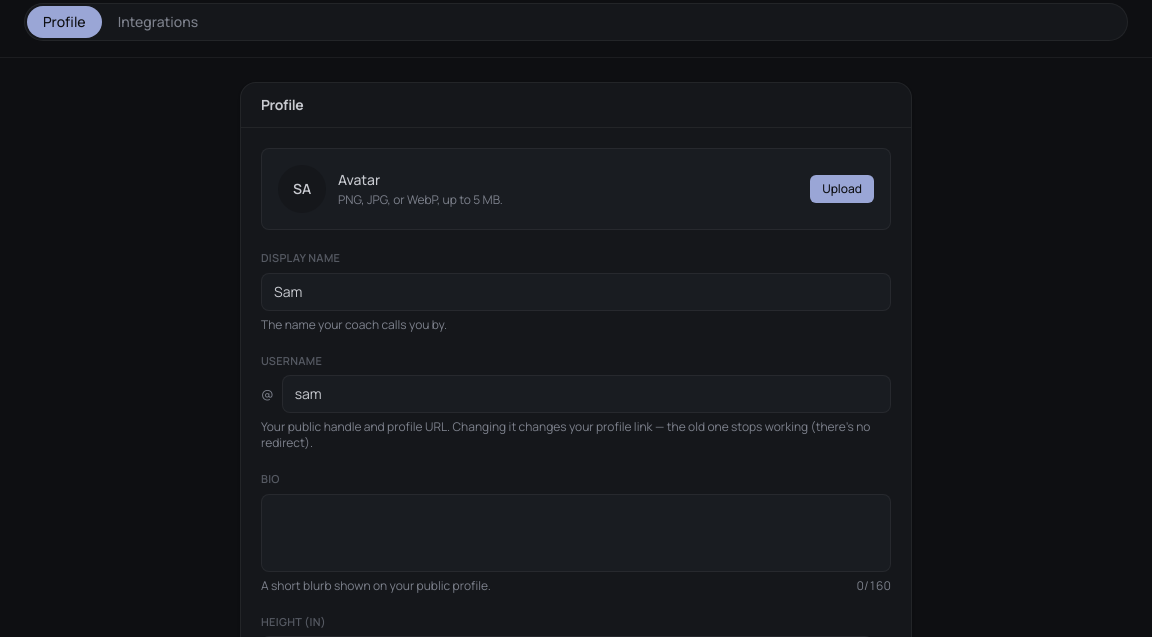
Scenario: Settings — username › blocks Save with a charset hint for an invalid dirty handle, skipping probe
This screenshot has width=1152, height=637.
Replace the text in the field named "Username" with "1bad": (586, 394) [282,375,891,413]
(page scrolled)
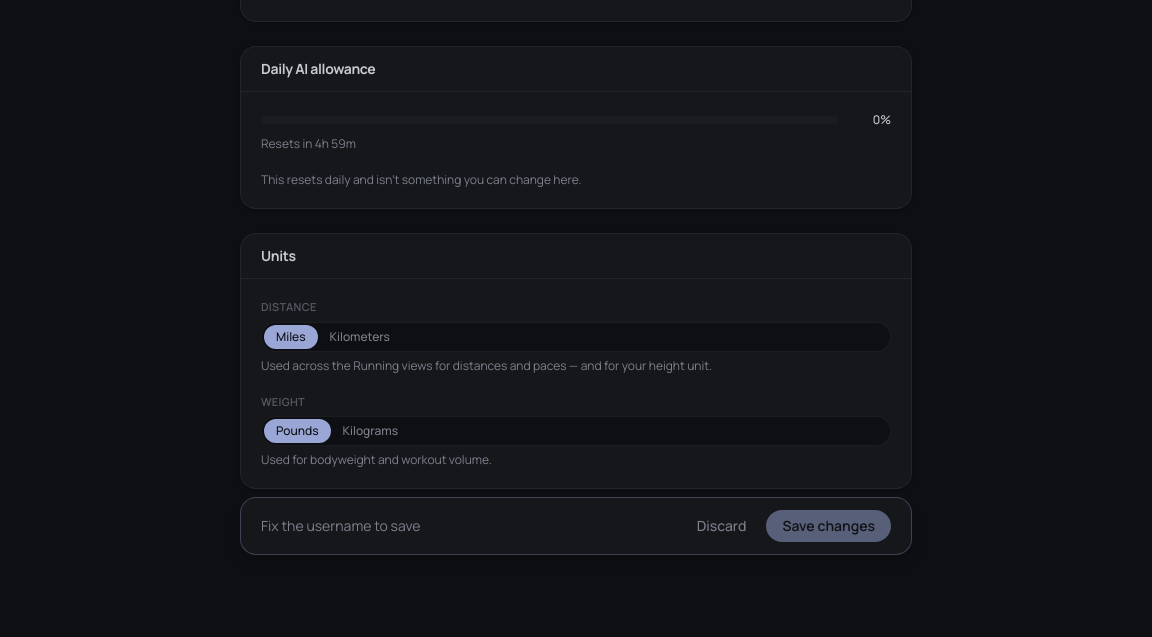
Expected: the text "Fix the username to save" is shown, [261,516,420,536]
Expected: the button "Save changes" is disabled, [766,510,891,542]
